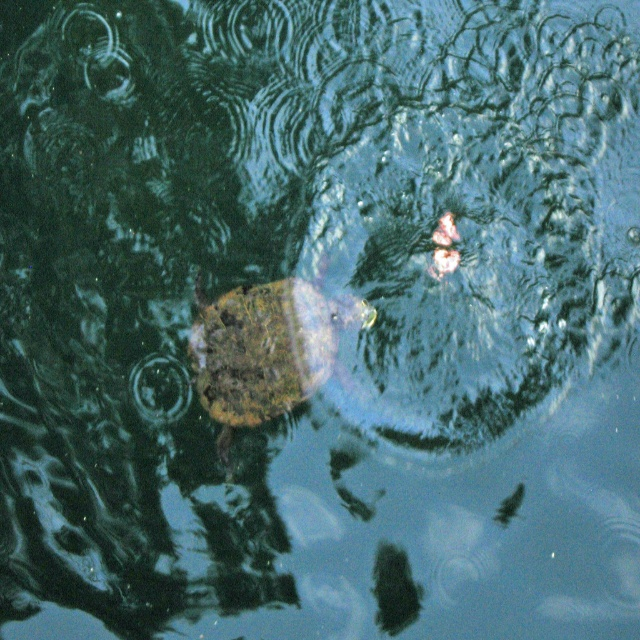Sea turtle: (182, 236, 375, 485)
